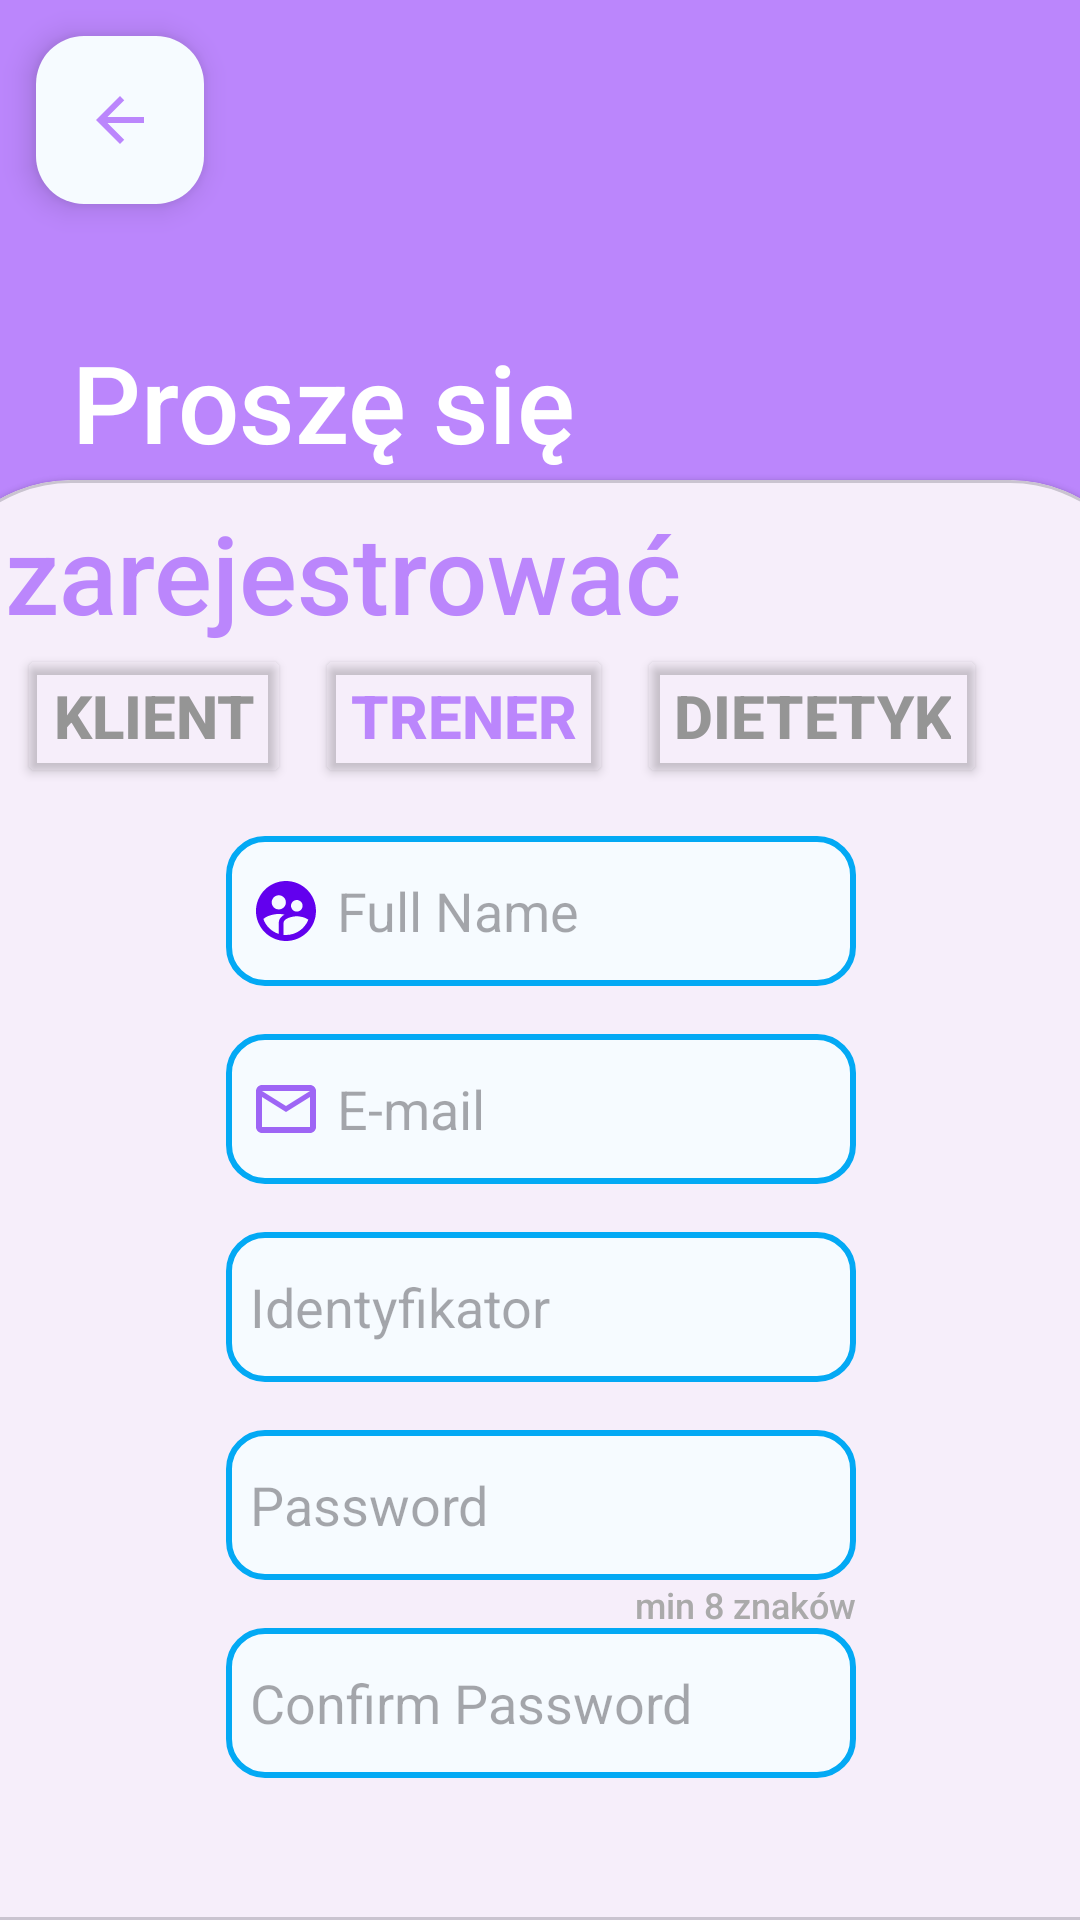

Named icons in this screenshot (1080 x 1920) and their bounding boxes, (x1, y1, x2, y2):
arrow back: (36, 36, 204, 204)
